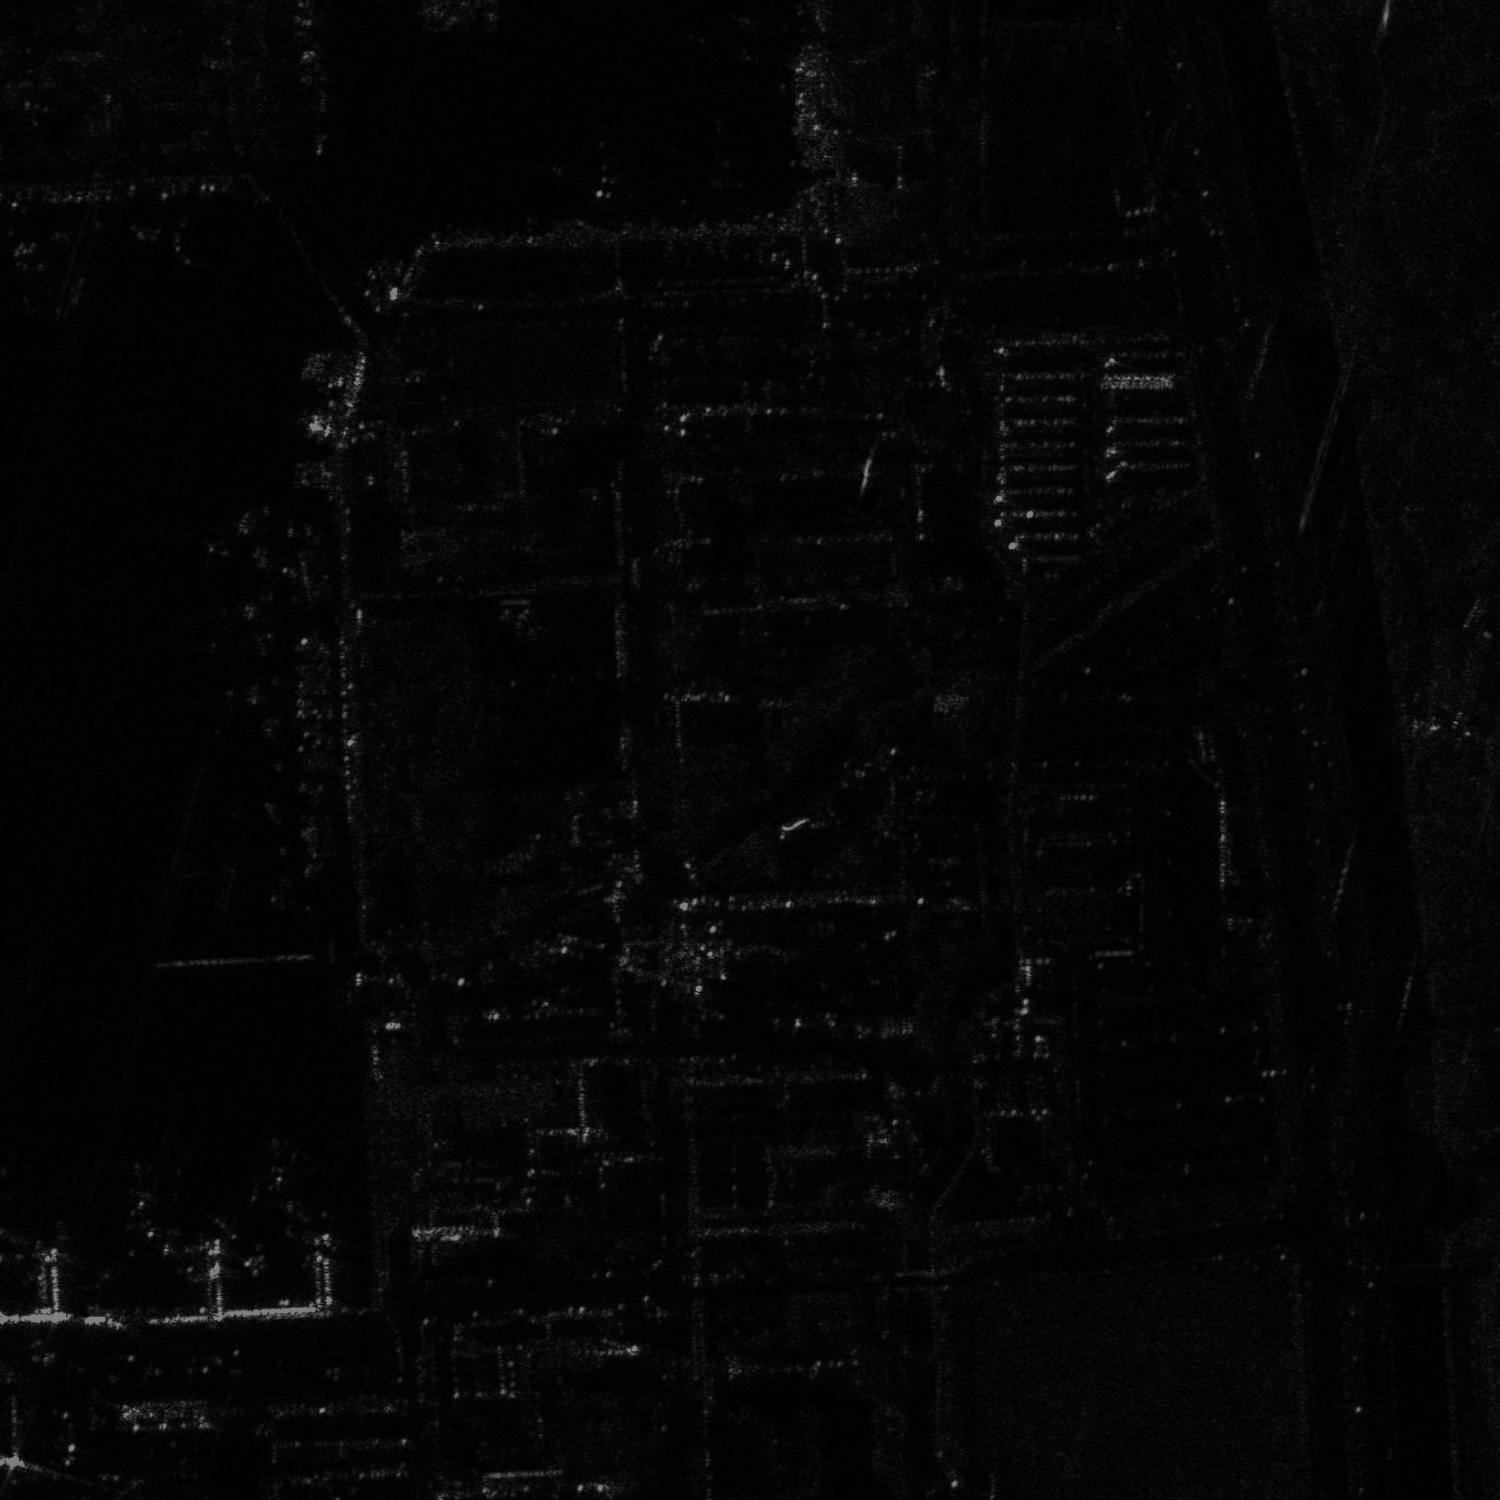A220: (236, 1137, 330, 1196)
Boeing787: (647, 109, 753, 216), (99, 1152, 199, 1217)
other: (530, 121, 652, 213), (163, 668, 275, 742), (157, 587, 269, 659), (161, 835, 247, 916), (163, 512, 258, 577)
